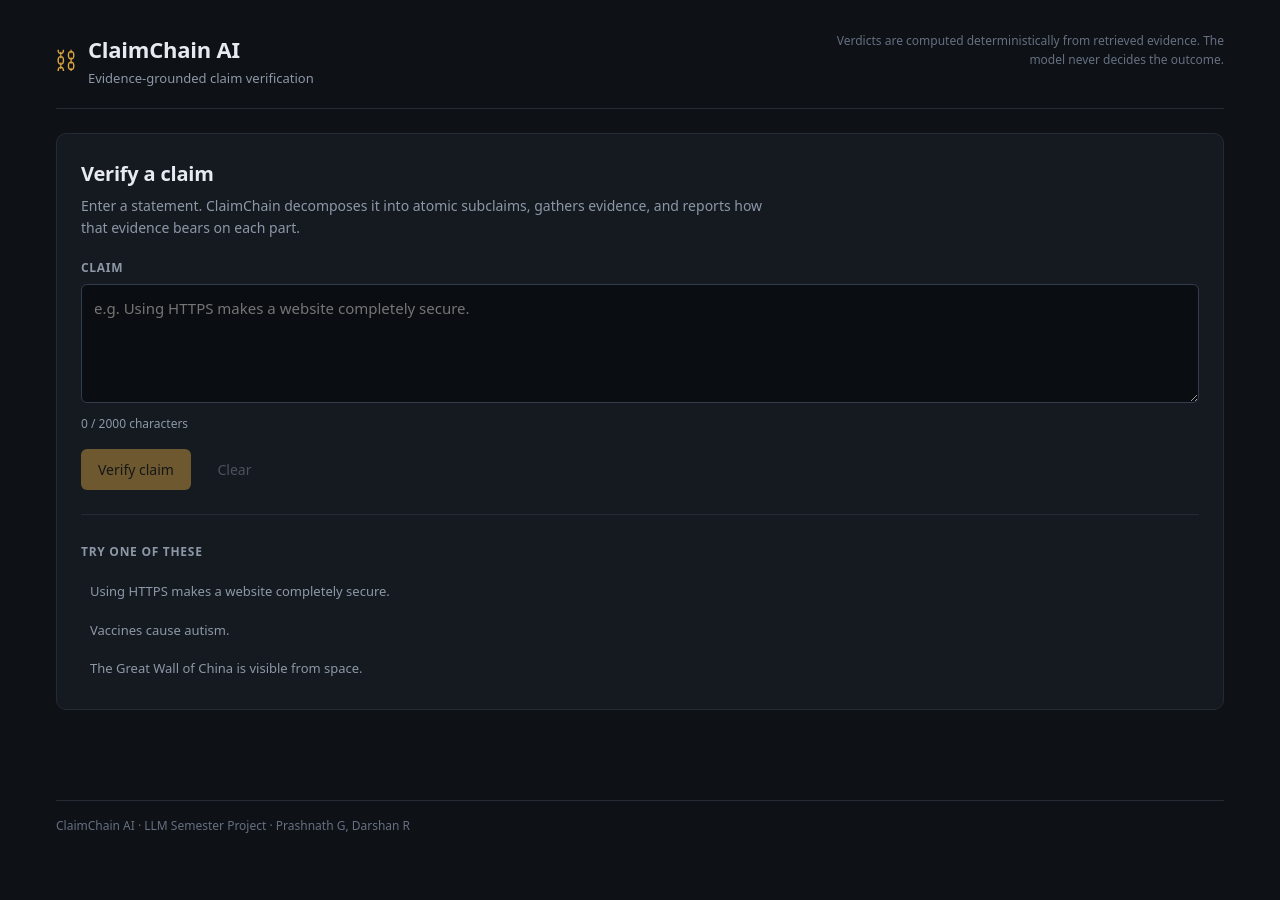
Test: App › renders the report after a successful pipeline
Type "Using HTTPS makes a website completely secure." into the text box at (640, 343), box top-left (81, 284), bottom-right (1199, 403)
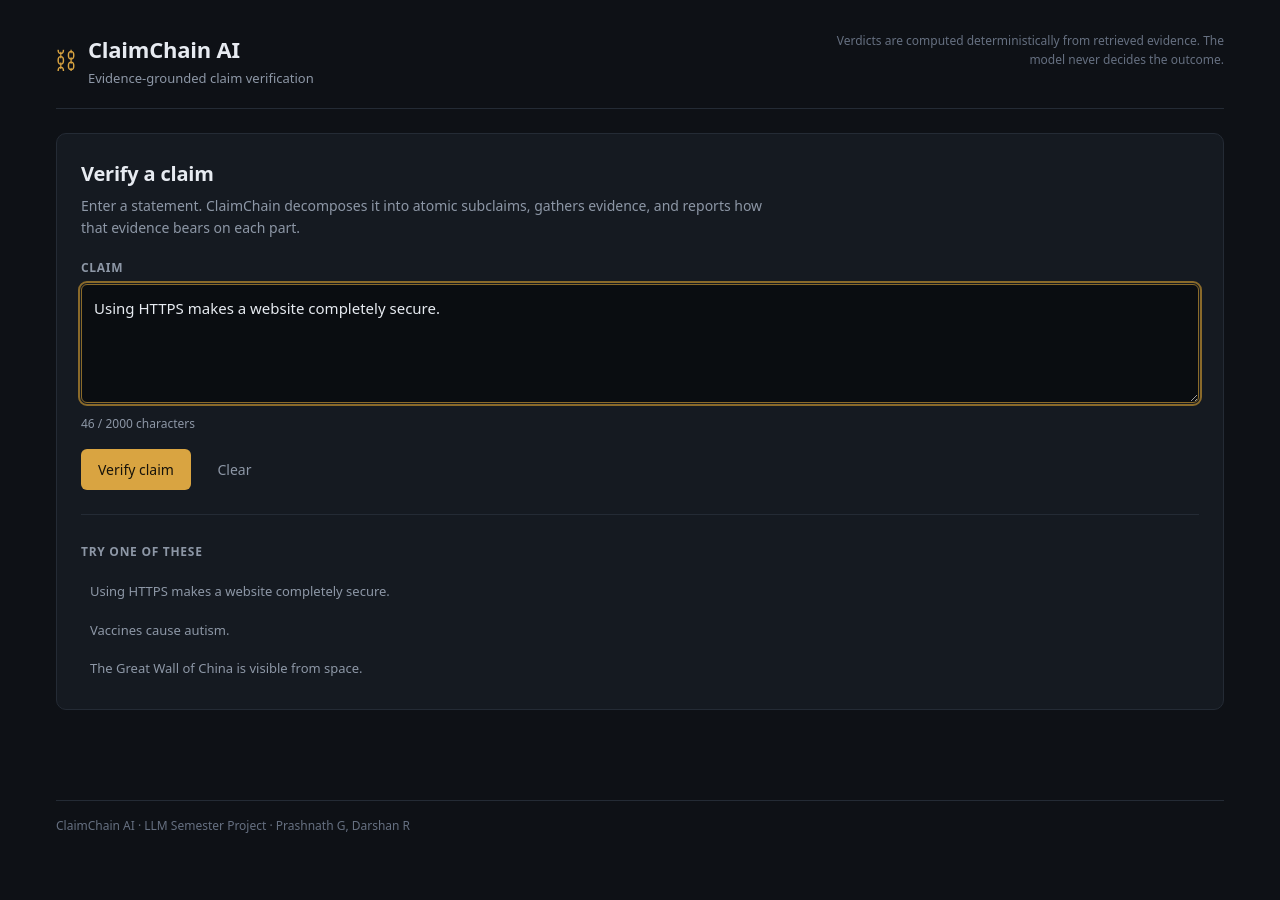
Click the button "Verify claim" at (136, 470), box top-left (81, 449), bottom-right (191, 490)
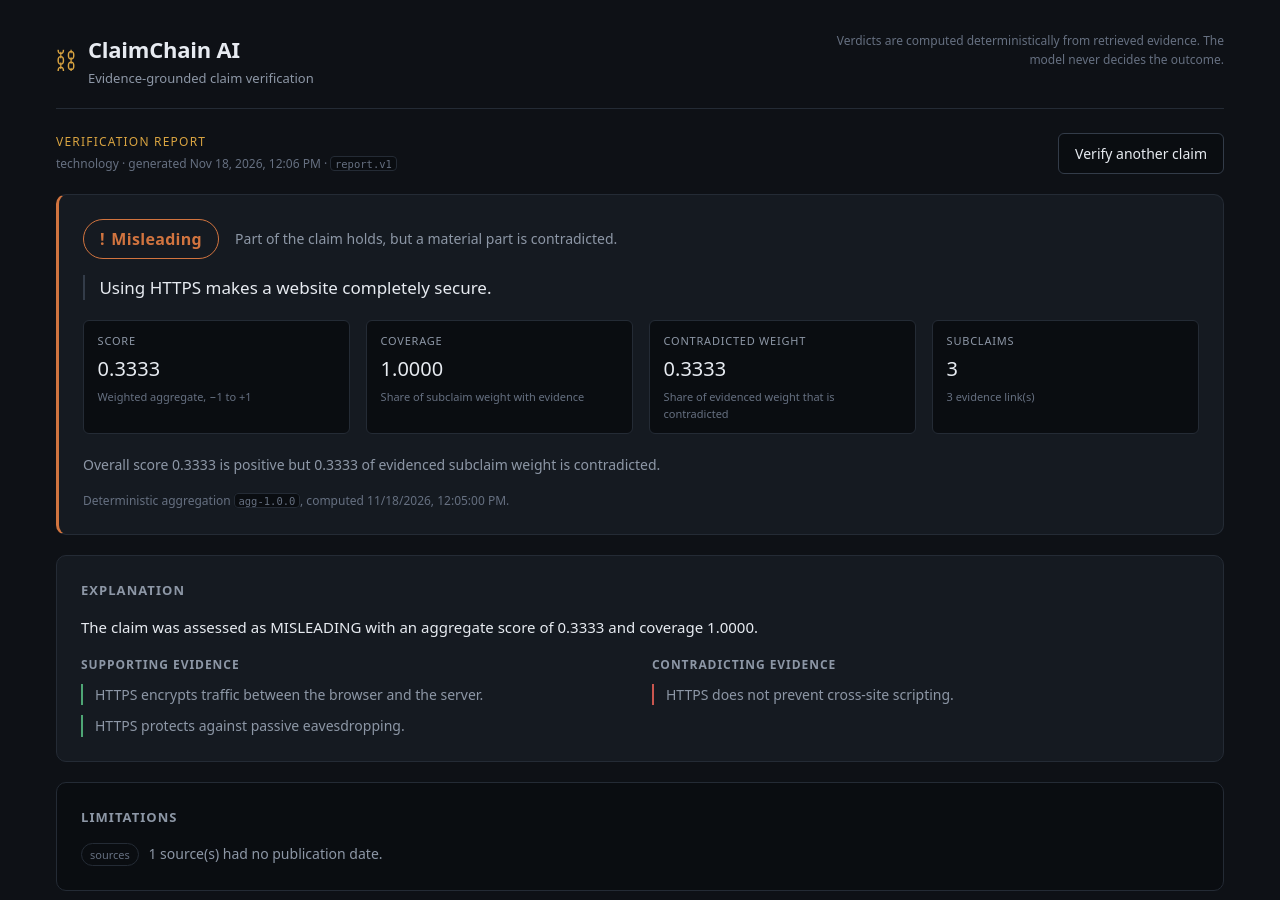
Expected: the text "Using HTTPS makes a website completely secure." is shown, top-left (83, 275), bottom-right (1199, 300)
Expected: the text "Verification report" is shown, top-left (56, 133), bottom-right (206, 150)
